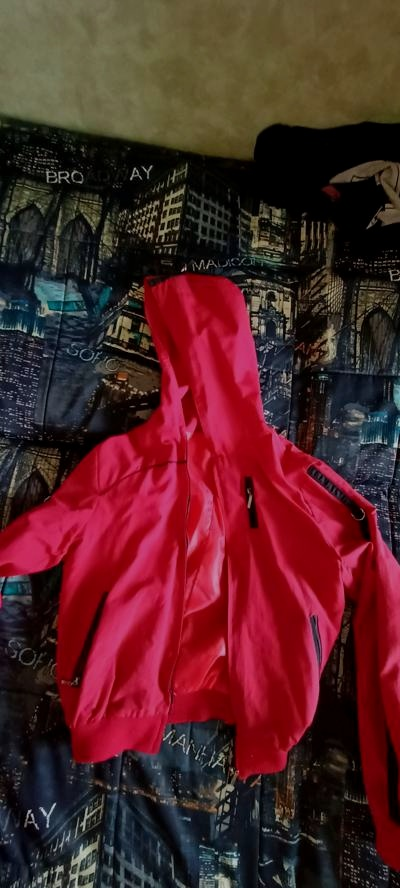Hoodie: (3, 226, 400, 851)
